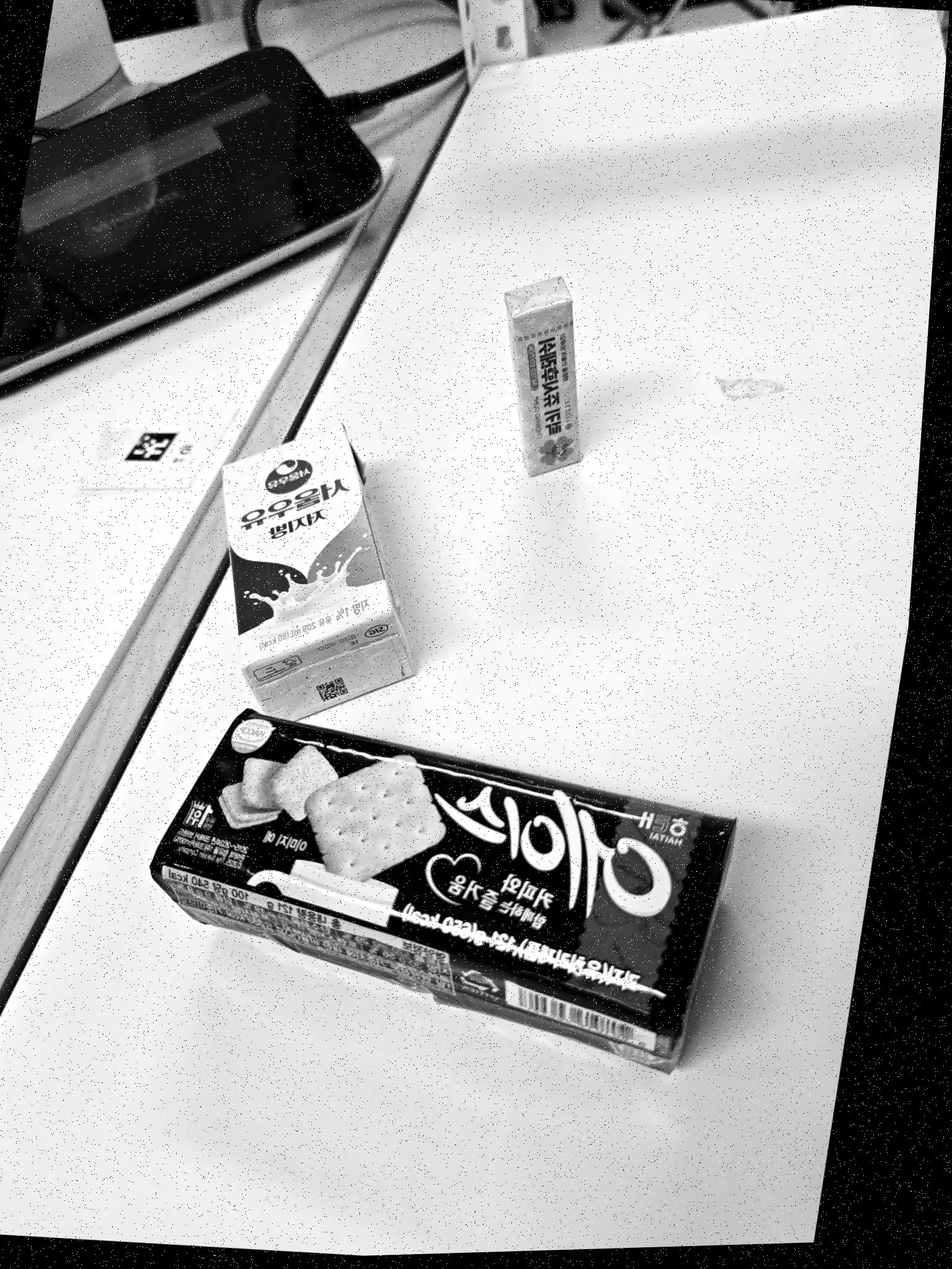cracker_ace: (151, 708, 736, 1072)
gum_yellow: (504, 277, 581, 476)
milk_blue: (224, 423, 414, 718)
